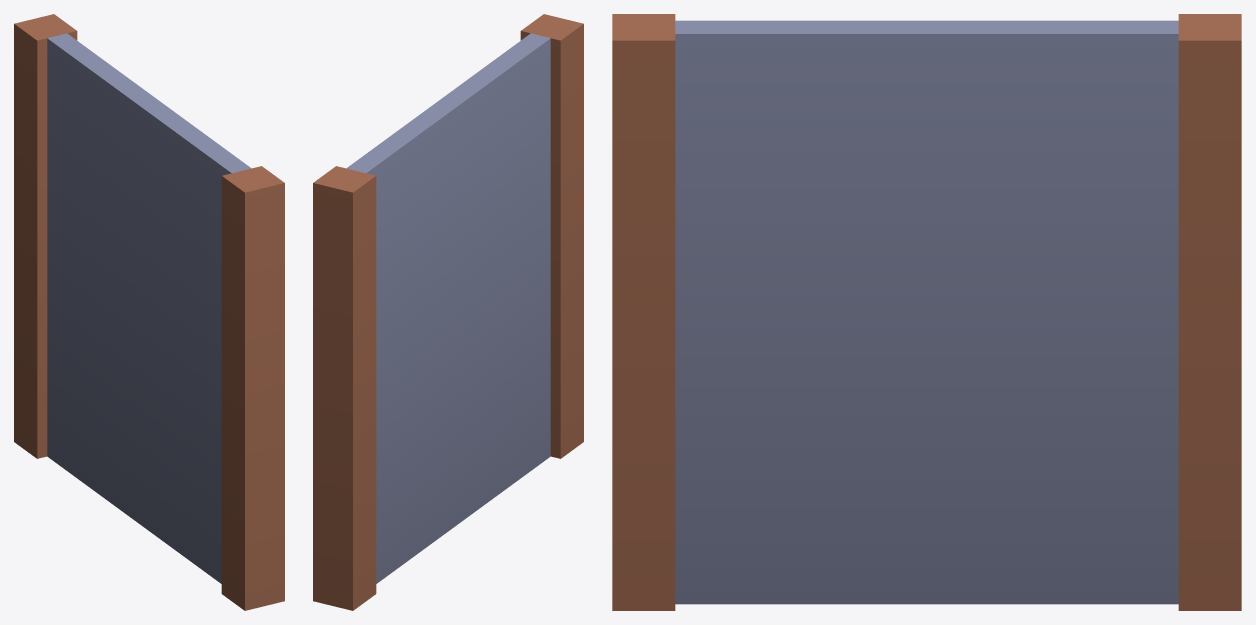
The model's file is town-wall.glb.
3 renders of one model, left to right at view 1: azimuth 30°, elevation 25°; view 2: azimuth 150°, elevation 25°; view 3: azimuth 270°, elevation 25°, orthographic. The views are drawn at different scales.
Parts seen in each view (by area): view 1: town-wall; view 2: town-wall; view 3: town-wall.
Boxes of the visible parts, x1,y1,x2,y2 form: town-wall: (14, 14, 284, 610); town-wall: (313, 14, 583, 610); town-wall: (612, 14, 1241, 610).
Bounding box in the file's own units: 0.1 × 1 × 1.
